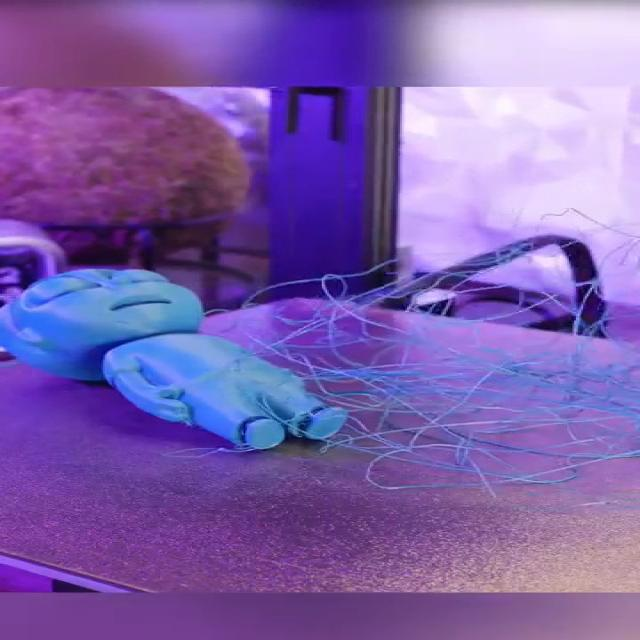spaghetti: (235, 240, 640, 503)
